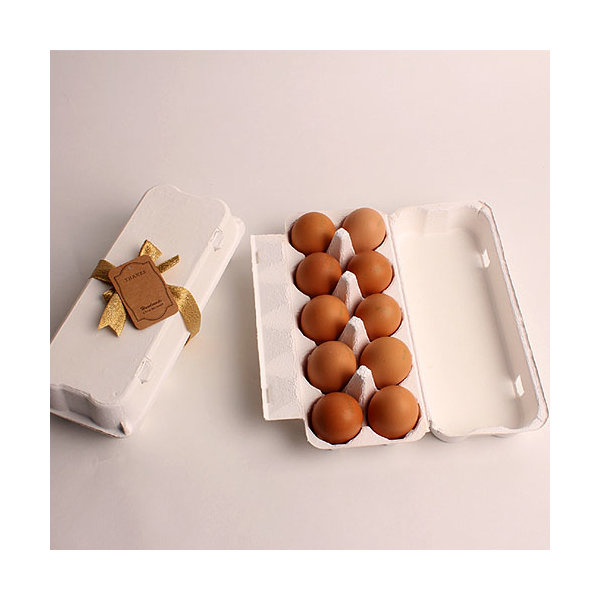egg: (288, 206, 422, 443)
